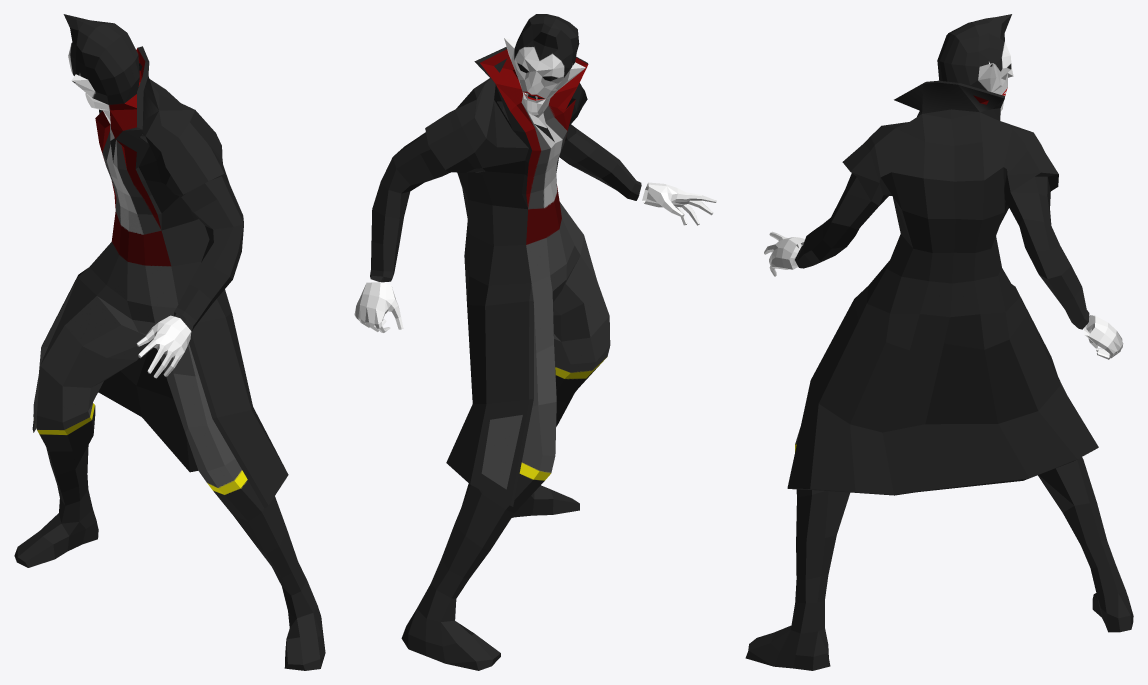
Rendered from VampireIdle(78).obj.
3 views of the same model, side by side, from view 1: azimuth 30°, elevation 25°; view 2: azimuth 150°, elevation 25°; view 3: azimuth 270°, elevation 25° (orthographic).
Visible parts, largest first — view 1: Plane002; view 2: Plane002; view 3: Plane002.
Boxes of the visible parts, x1,y1,x2,y2 form: Plane002: (14,14,325,670); Plane002: (354,14,716,670); Plane002: (745,14,1133,670).
Bounding box in the file's own units: 111 × 307 × 185.
